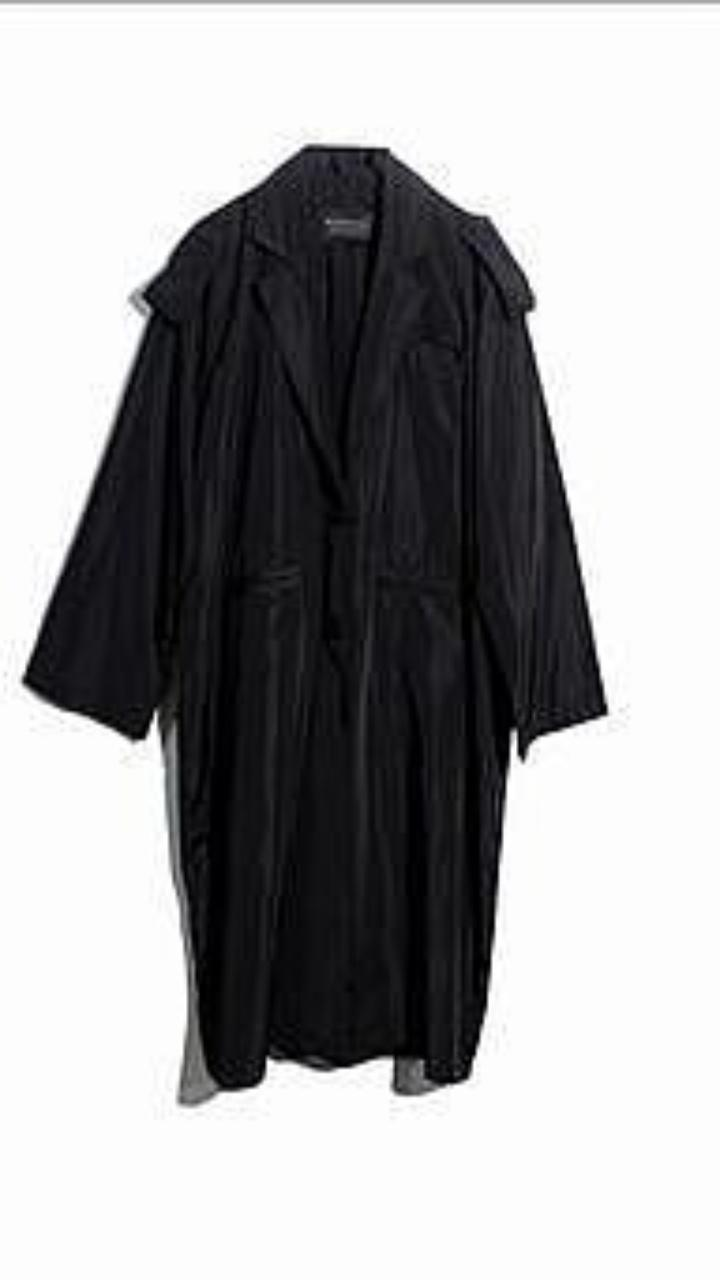Coat: (23, 145, 606, 1088)
